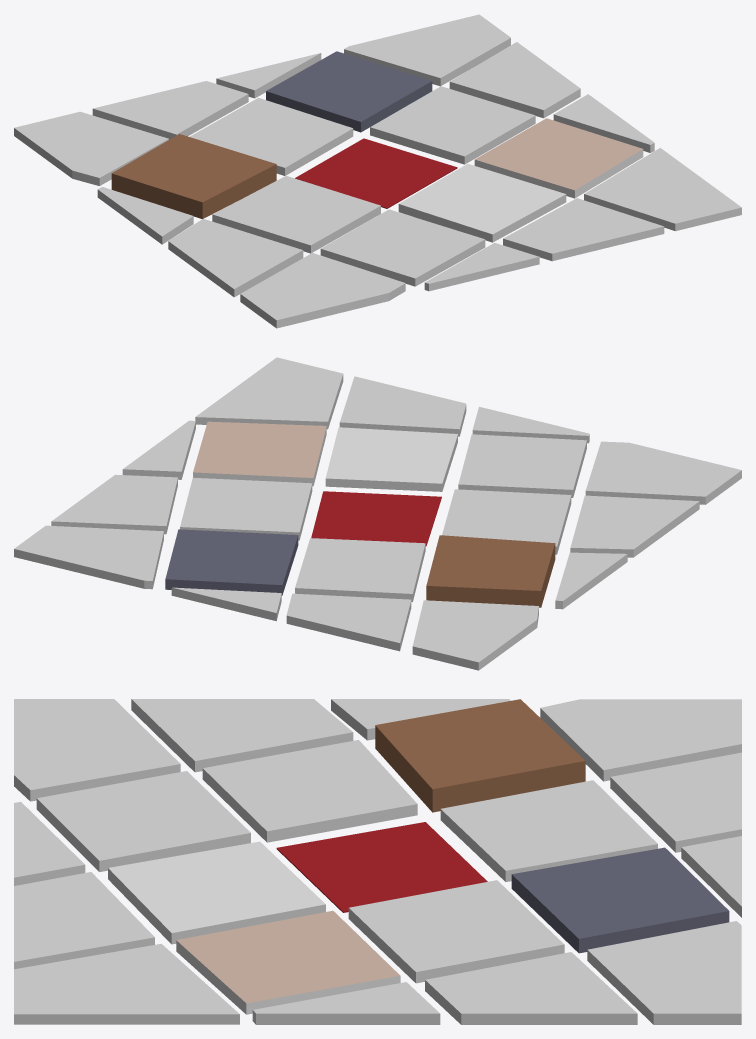
The model's file is Periferia_parque Nariño.dae.
3 renders of one model, top to bottom at view 1: azimuth 30°, elevation 25°; view 2: azimuth 150°, elevation 25°; view 3: azimuth 270°, elevation 25°, orthographic. The views are drawn at different scales.
Parts seen in each view (by area): view 1: SketchUp (×23); view 2: SketchUp (×23); view 3: SketchUp (×23).
Boxes of the visible parts, <box> form: SketchUp (×23): <box>14,14,741,328</box>; SketchUp (×23): <box>14,357,741,670</box>; SketchUp (×23): <box>14,699,741,1024</box>.
Bounding box in the file's own units: 16419 × 16060 × 569.
